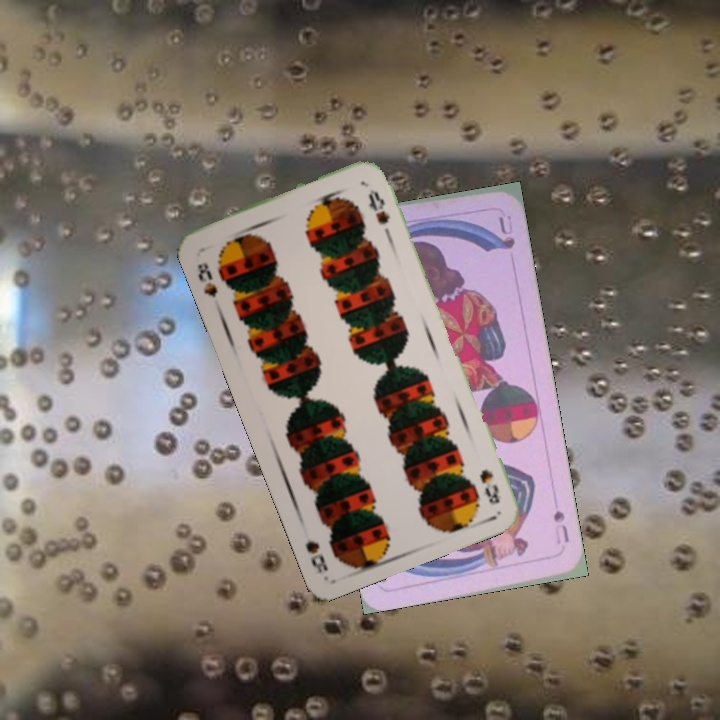S8: (475, 465, 503, 507), (193, 258, 220, 300)
SU: (549, 506, 572, 546)
